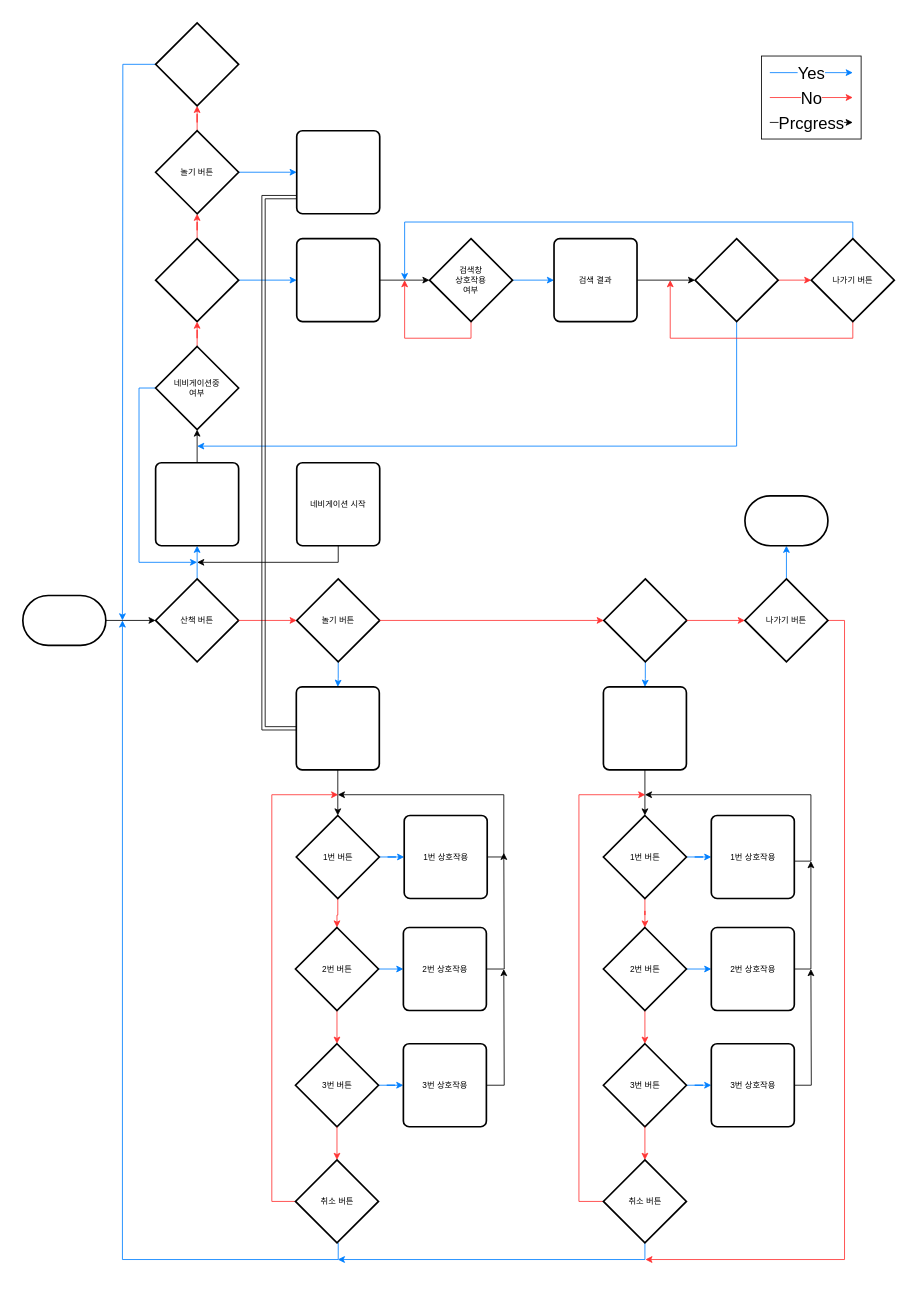
This 916x1298 diagram has some shape labels left out. Here are the shapes that lost their labels. From the top down, the centre of each, then its label:
At (196,64): "산책종료 버튼".
At (337,171): "놀기 UI와 동일".
At (196,279): "지도 버튼".
At (337,279): "네이버 지도 API 불러오기".
At (736,279): "클릭 여부".
At (196,503): "산책 씬".
At (786,520): "게임 종료".
At (64,620): "게임 시작".
At (645,620): "간식 버튼".
At (337,728): "놀기 UI".
At (644,728): "간식 UI".
